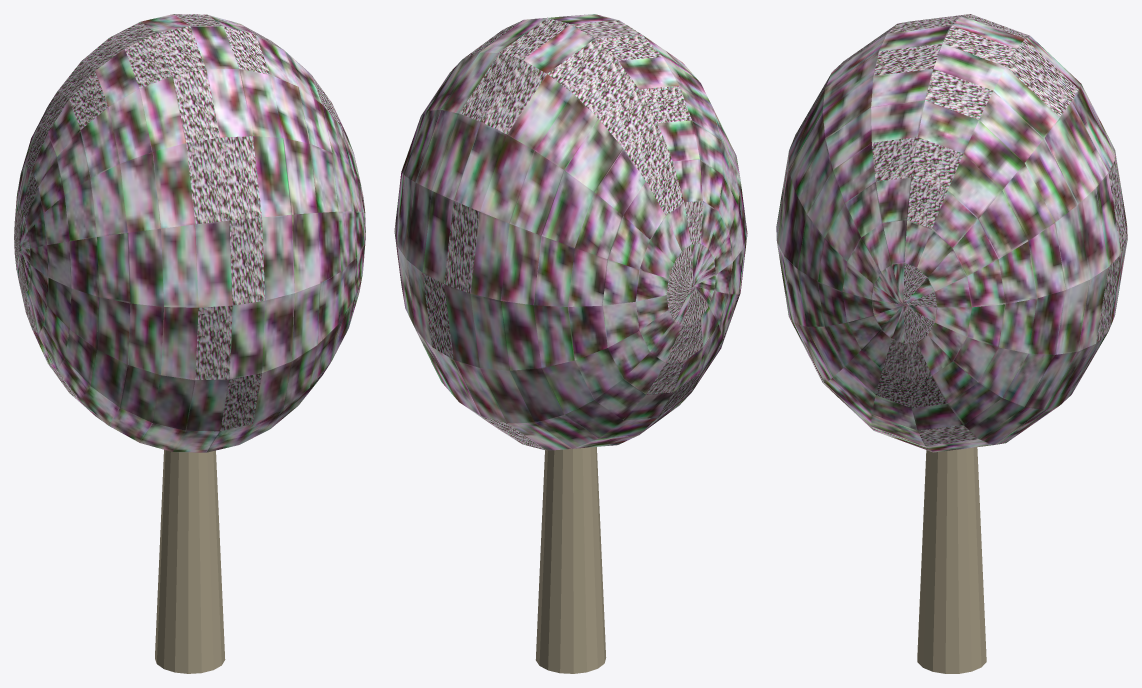
Rendered from GMLID_SO0158953_776_12462.gltf.
The picture shows the model from 3 angles, left to right: view 1: azimuth 30°, elevation 25°; view 2: azimuth 150°, elevation 25°; view 3: azimuth 270°, elevation 25°; orthographic projection.
Visible parts, largest first — view 1: Z_UP; view 2: Z_UP; view 3: Z_UP.
Part boxes in pixels (x1,y1,x2,y2): Z_UP: [14, 14, 365, 673]; Z_UP: [394, 14, 747, 673]; Z_UP: [776, 14, 1127, 673].
Size of the model in its own units: 6.75 by 13.43 by 6.75.
2 materials, 1 textured.
